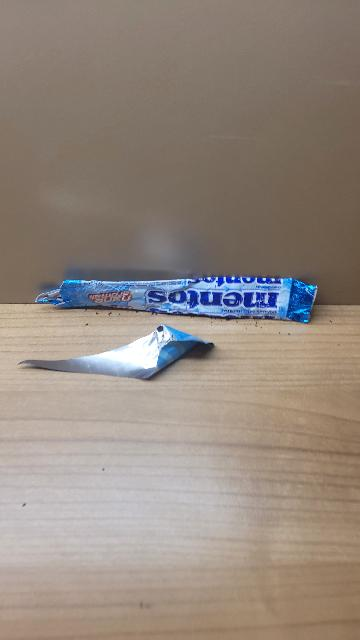Plastik: (29, 273, 327, 330), (19, 325, 222, 393)
